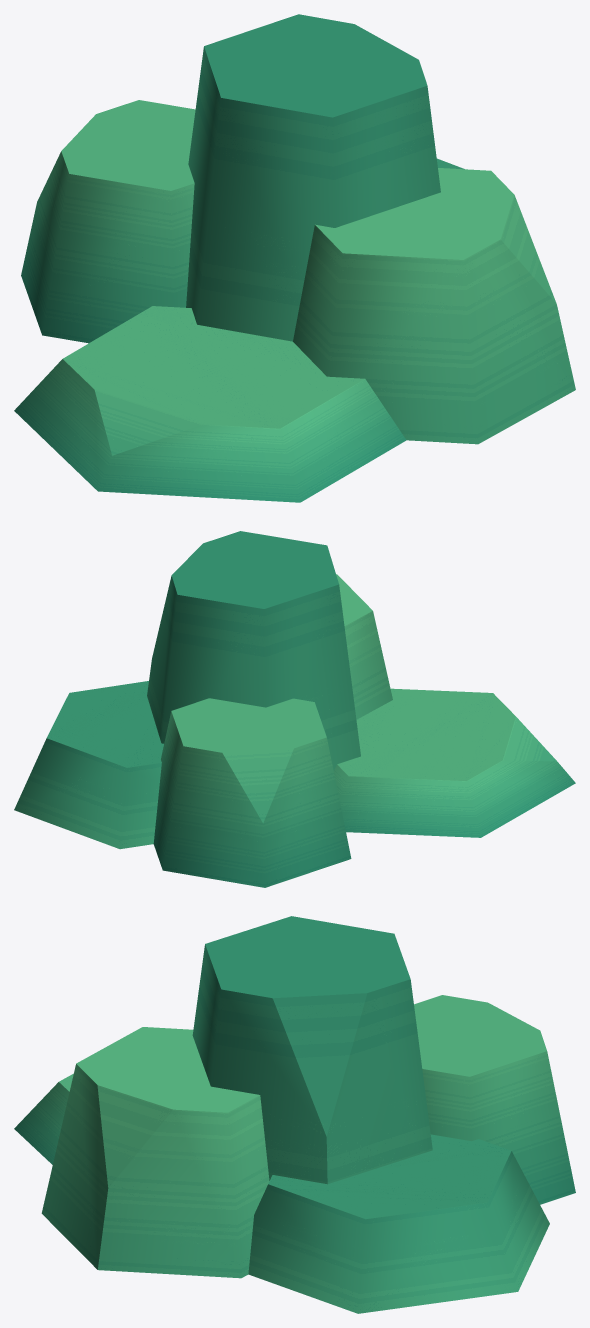
File: detail-rocks-large.glb
The picture shows the model from 3 angles, top to bottom: view 1: azimuth 30°, elevation 25°; view 2: azimuth 150°, elevation 25°; view 3: azimuth 270°, elevation 25°; orthographic projection. The views are drawn at different scales.
Parts seen in each view (by area): view 1: detail-rocks-large; view 2: detail-rocks-large; view 3: detail-rocks-large.
Part boxes in pixels (left/top/right/bottom): detail-rocks-large: left=14, top=14, right=575, bottom=502; detail-rocks-large: left=14, top=531, right=575, bottom=887; detail-rocks-large: left=14, top=916, right=575, bottom=1313.
Bounding box in the file's own units: 2.68 × 1.24 × 2.58.
Materials: 1 (1 with a texture image).
